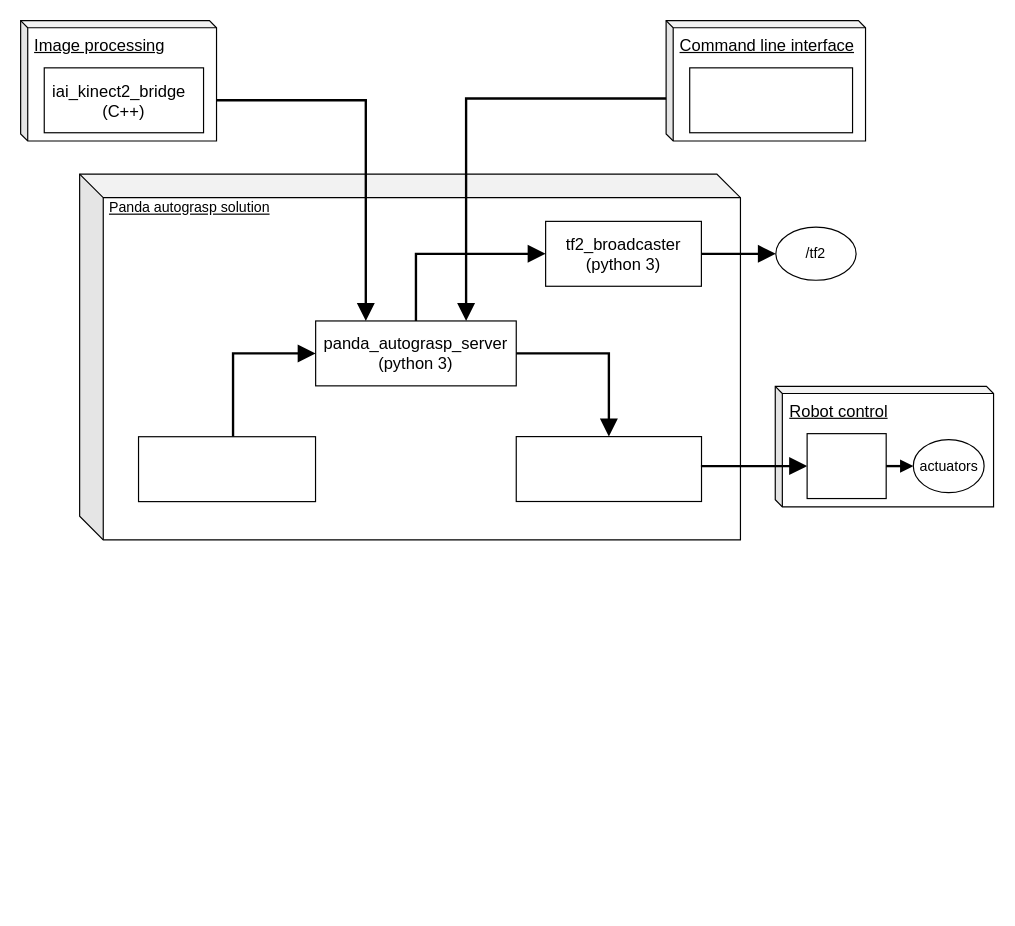
The diagram is 1015 pixels wide and 926 high, and some of its shapes have lost their labels. The centre of each missing label's shape, as x and y in pixels:
"grasp_planner_server (python 3)" goes at point (226, 469).
"LibFranka (C++)" goes at point (846, 465).
"moveit_planner_server (python 3)" goes at point (608, 468).
"panda_autograsp_cli (python)" goes at point (771, 100).
